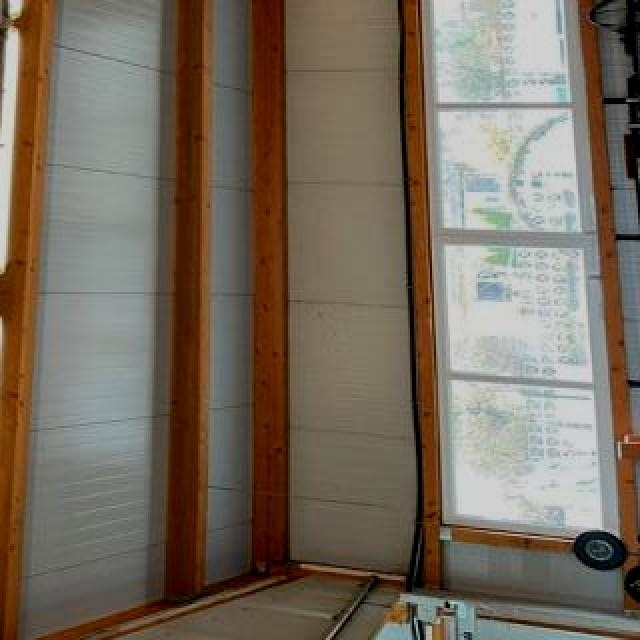fluorescent tube: (0, 306, 34, 622), (0, 22, 38, 290), (0, 0, 52, 28)
